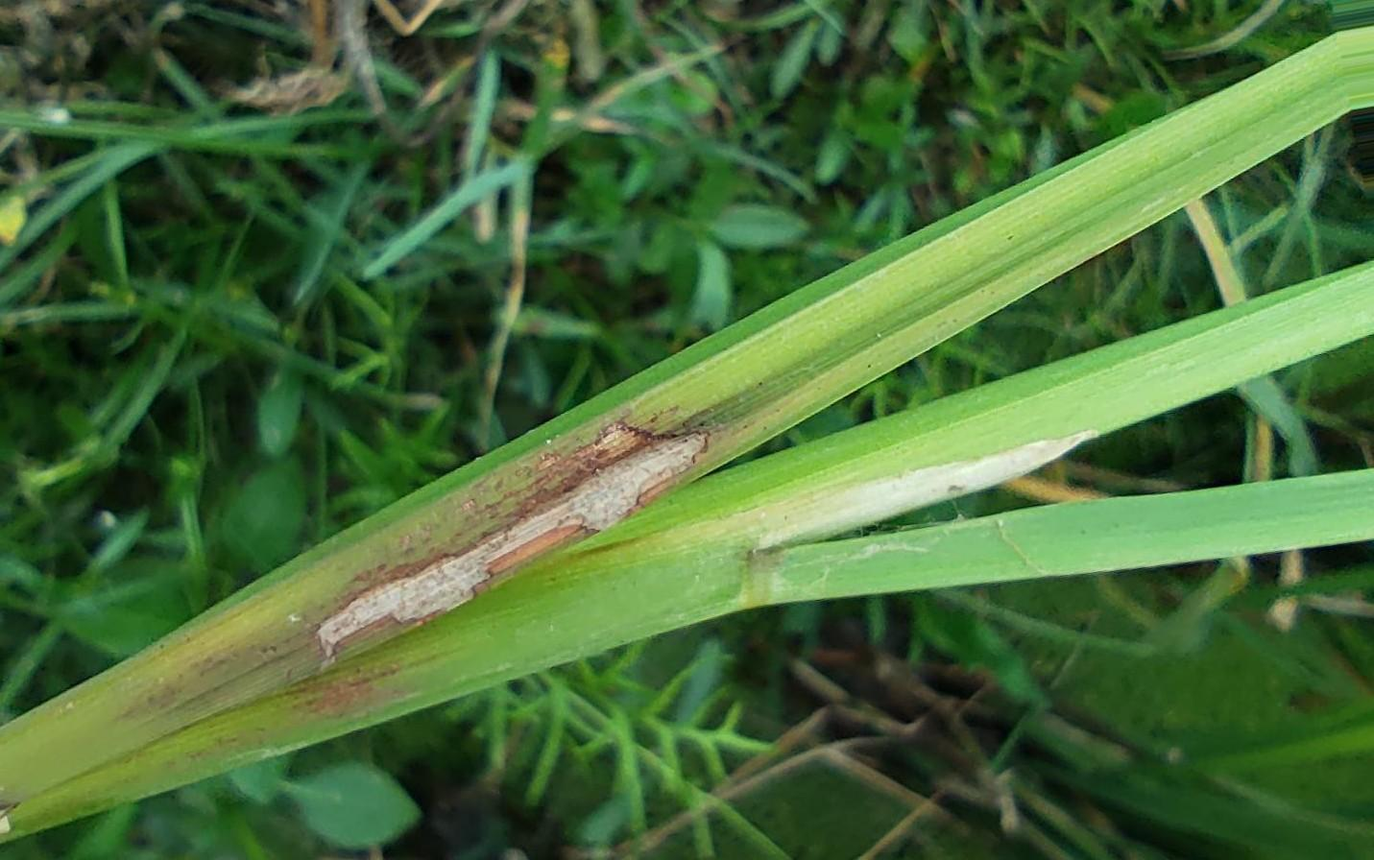LEAF: (0, 35, 1373, 832)
LEAF BLAST: (311, 429, 712, 661)
